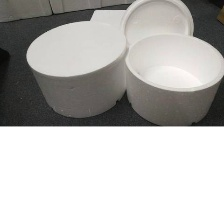foam_box: (22, 18, 126, 121), (124, 31, 224, 126), (116, 0, 198, 52), (88, 6, 130, 29)
